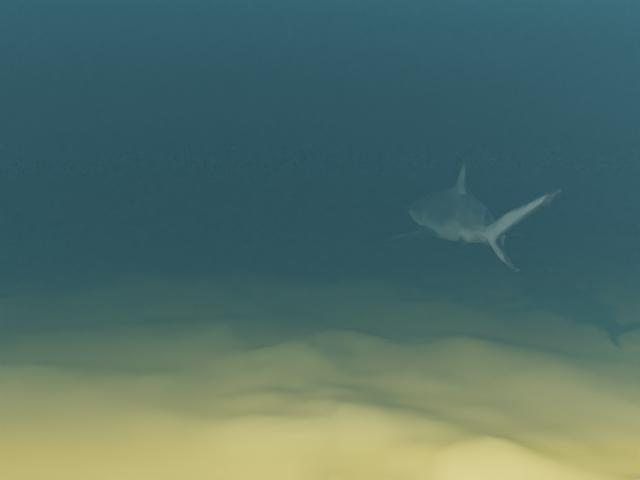Carribean Shark.001: (377, 159, 561, 272)
